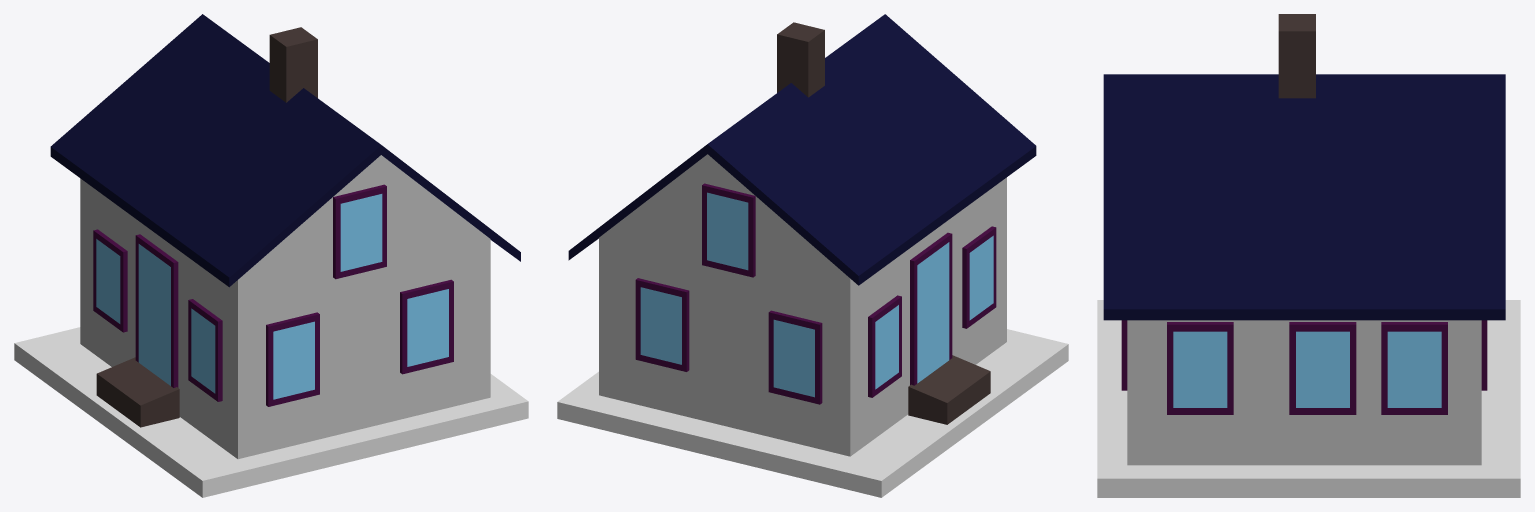
The model's file is Small House.FBX.
The picture shows the model from 3 angles, left to right: view 1: azimuth 30°, elevation 25°; view 2: azimuth 150°, elevation 25°; view 3: azimuth 270°, elevation 25°; orthographic projection. The views are drawn at different scales.
Parts seen in each view (by area): view 1: Box004, Box045; view 2: Box004, Box045; view 3: Box004, Box045.
Boxes of the visible parts, x1,y1,x2,y2 form: Box004: [50, 14, 520, 459]; Box045: [14, 327, 528, 497]; Box004: [568, 14, 1036, 456]; Box045: [557, 329, 1068, 497]; Box004: [1103, 14, 1505, 465]; Box045: [1097, 300, 1520, 497].
Size of the model in its own units: 1 by 1.03 by 1.
